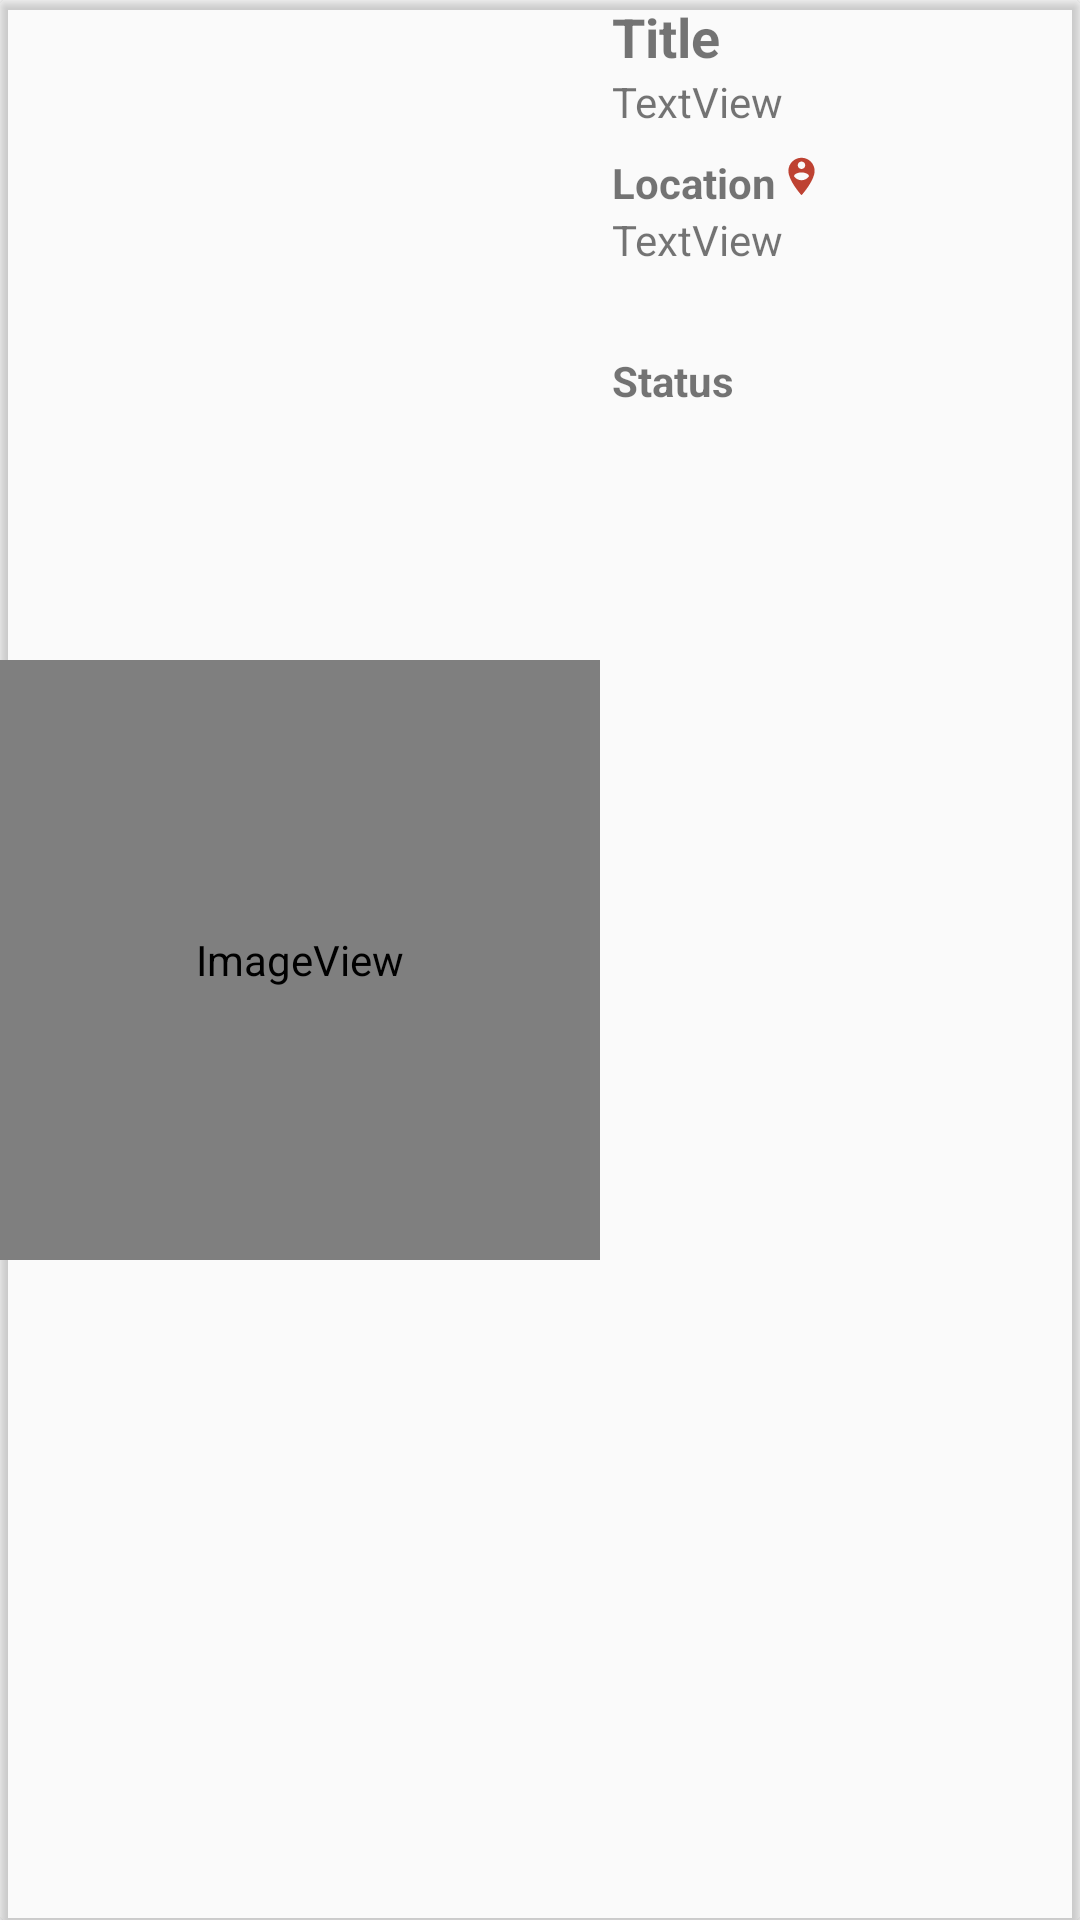

Icons on this 1080px x 1920px Android screen, each with its box as bbox(x1, y1, x2, y2):
person pin circle: bbox(788, 157, 815, 195)
